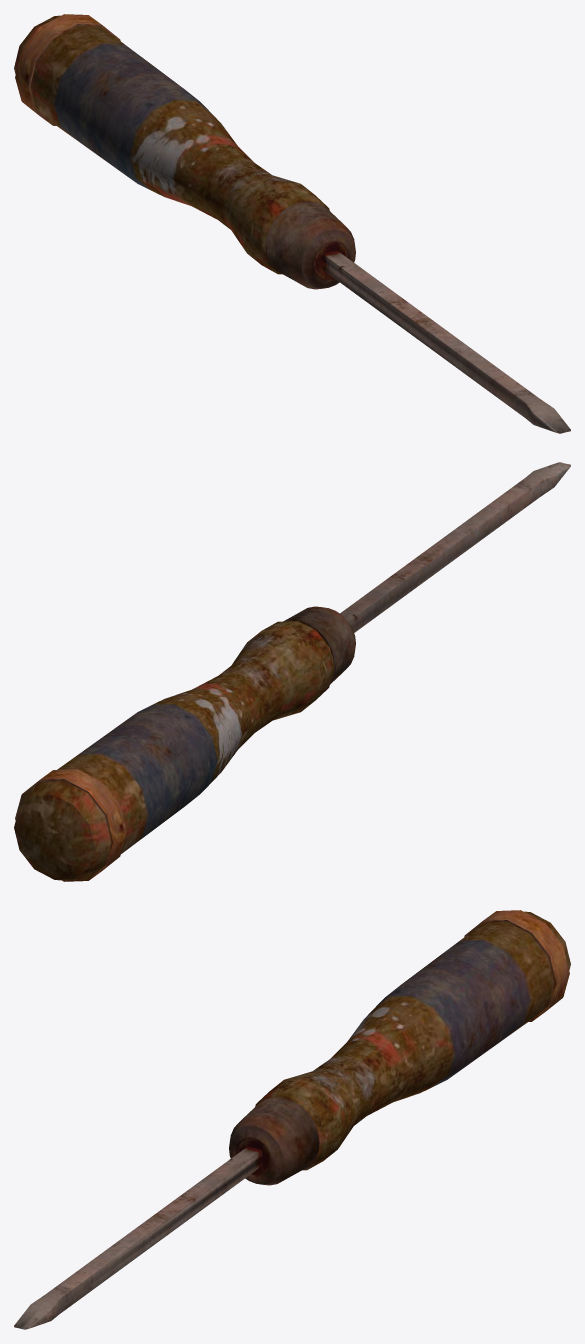
The model's file is old_screwdriver_02.glb.
3 views of the same model, one above another, from view 1: azimuth 30°, elevation 25°; view 2: azimuth 150°, elevation 25°; view 3: azimuth 330°, elevation 25° (orthographic).
Visible parts, largest first — view 1: old_screwdriver_02; view 2: old_screwdriver_02; view 3: old_screwdriver_02.
Part boxes in pixels (bbox=[...]): old_screwdriver_02: bbox=[14, 14, 570, 433]; old_screwdriver_02: bbox=[14, 462, 570, 881]; old_screwdriver_02: bbox=[14, 910, 570, 1329].
Size of what is drawn, in the model's own units: 0.0242 by 0.0242 by 0.22.
1 material, 1 textured.
